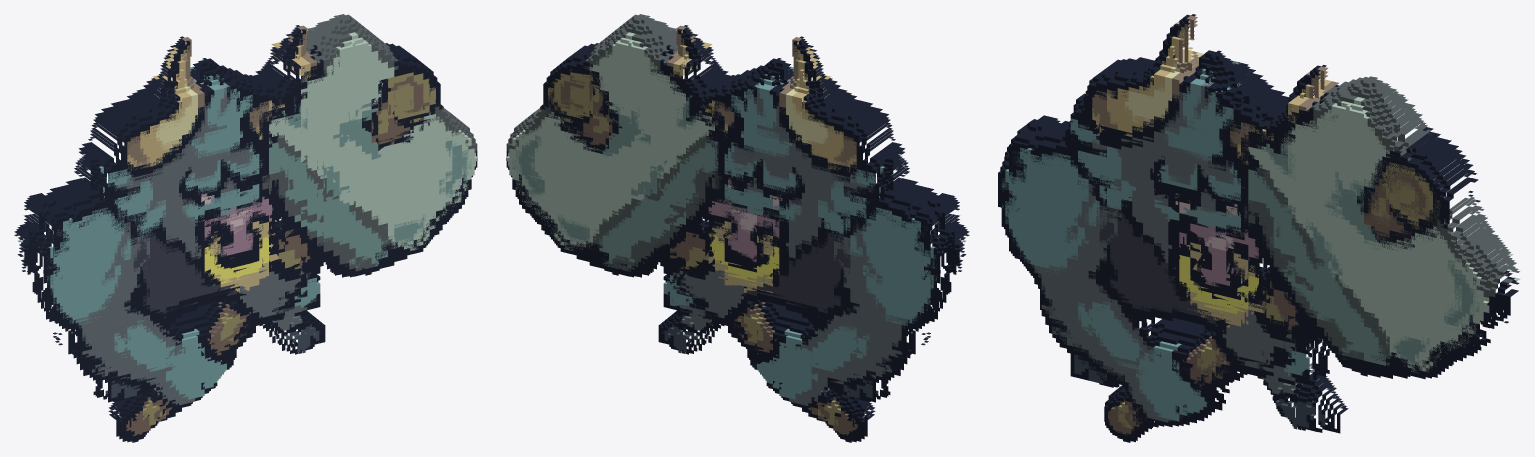
The model's file is guardiao_minotauro.glb.
3 views of the same model, side by side, from view 1: azimuth 30°, elevation 25°; view 2: azimuth 150°, elevation 25°; view 3: azimuth 330°, elevation 25° (orthographic). The views are drawn at different scales.
Parts seen in each view (by area): view 1: q0, q2, q3, q4, q1, q8, q7, q9; view 2: q0, q2, q3, q4, q1, q8, q7, q9; view 3: q0, q2, q3, q4, q1, q8, q7.
Boxes of the visible parts, bbox=[...] form: q0: bbox=[17, 14, 471, 435]; q2: bbox=[14, 19, 471, 438]; q3: bbox=[14, 26, 474, 442]; q4: bbox=[21, 24, 477, 441]; q1: bbox=[66, 30, 416, 306]; q8: bbox=[17, 45, 400, 378]; q7: bbox=[17, 50, 306, 322]; q9: bbox=[19, 199, 119, 313]; q0: bbox=[512, 14, 966, 435]; q2: bbox=[512, 19, 969, 439]; q3: bbox=[509, 26, 969, 442]; q4: bbox=[506, 26, 962, 441]; q1: bbox=[560, 30, 916, 307]; q8: bbox=[583, 44, 966, 378]; q7: bbox=[668, 50, 966, 321]; q9: bbox=[863, 199, 964, 322]; q0: bbox=[1001, 14, 1512, 433]; q2: bbox=[998, 23, 1512, 433]; q3: bbox=[998, 88, 1516, 441]; q4: bbox=[1005, 66, 1520, 442]; q1: bbox=[1027, 19, 1452, 326]; q8: bbox=[1001, 55, 1450, 344]; q7: bbox=[1001, 62, 1318, 336].
Size of the model in its own units: 140 by 115 by 16.
Materials: 1 (1 with a texture image).
